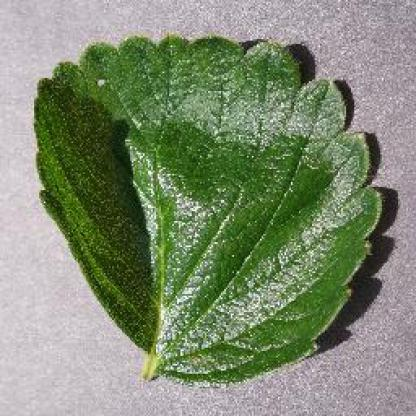healthy: (29, 29, 390, 395)
